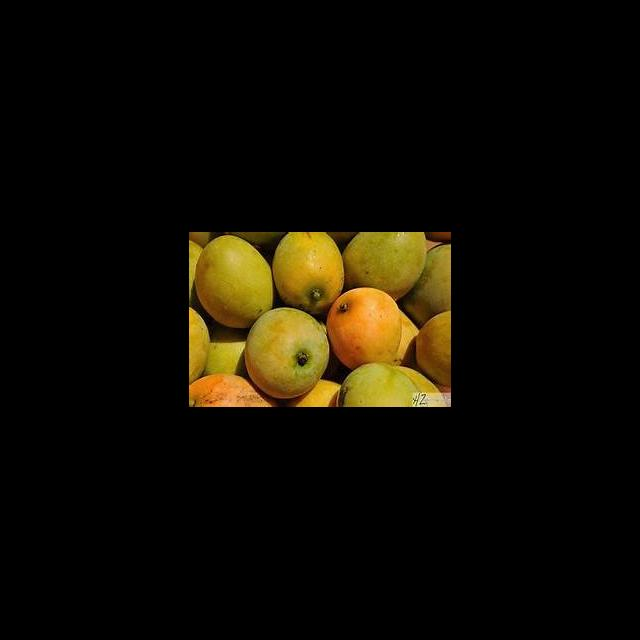mango: (245, 308, 329, 399), (196, 237, 273, 328), (327, 288, 401, 369), (272, 232, 344, 315), (343, 232, 426, 300), (341, 364, 418, 407)
